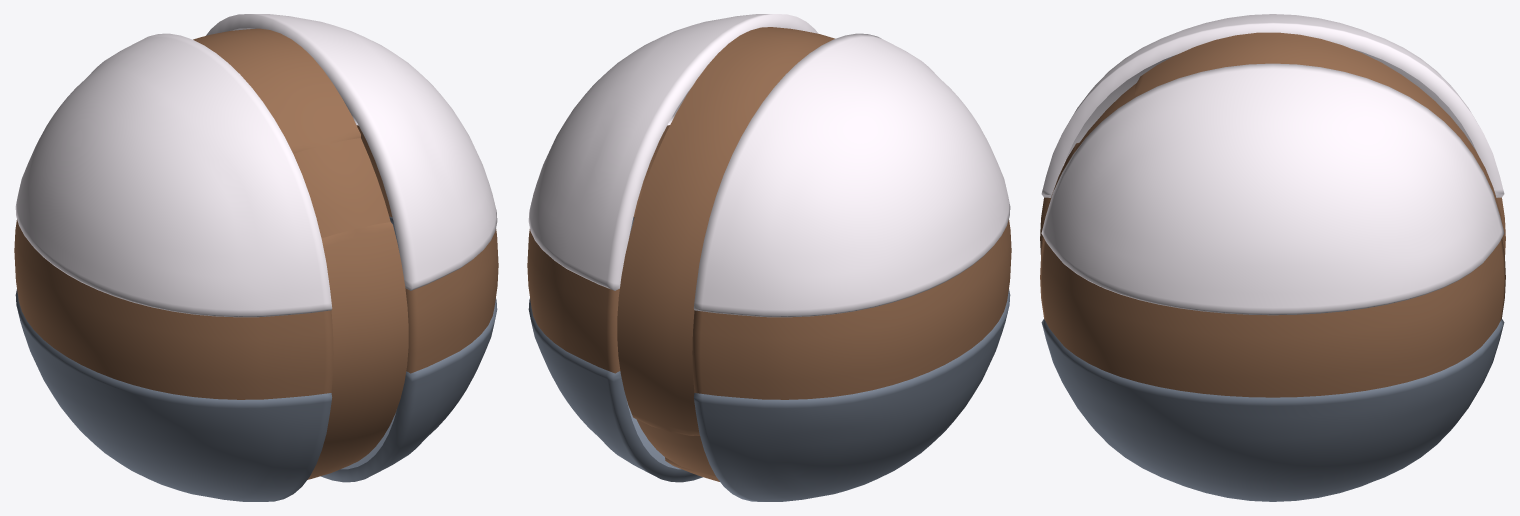
Rendered from bolita.fbx.
3 renders of one model, left to right at view 1: azimuth 30°, elevation 25°; view 2: azimuth 150°, elevation 25°; view 3: azimuth 270°, elevation 25°, orthographic.
Visible parts, largest first — view 1: Cube.015, Cube.074; view 2: Cube.015, Cube.074; view 3: Cube.015, Cube.074.
Boxes of the visible parts, x1,y1,x2,y2 form: Cube.015: (14,14,498,501); Cube.074: (193,28,408,479); Cube.015: (527,14,1011,501); Cube.074: (617,27,835,481); Cube.015: (1040,14,1505,501); Cube.074: (1040,32,1504,255).
Size of the model in its own units: 1009 by 1005 by 992.
